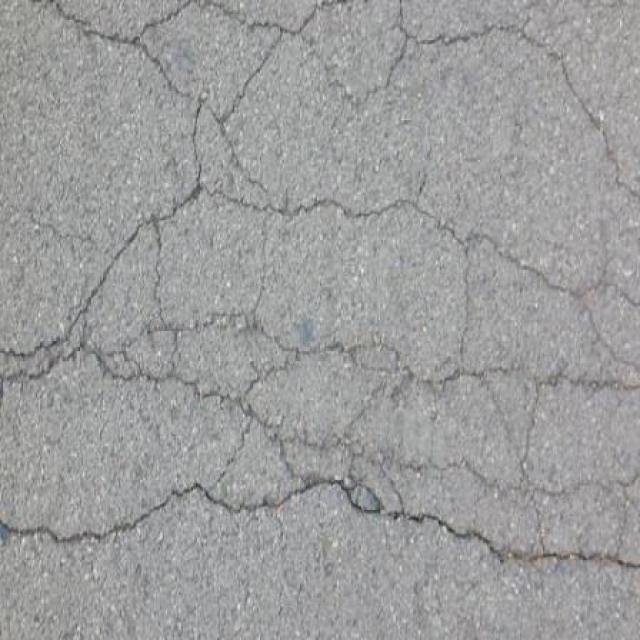Crack: (0, 144, 640, 374), (28, 0, 640, 201), (0, 350, 338, 544), (28, 0, 271, 206), (241, 312, 639, 429), (200, 464, 640, 569), (340, 385, 640, 529), (127, 312, 238, 384), (0, 346, 136, 399), (355, 400, 370, 421)
